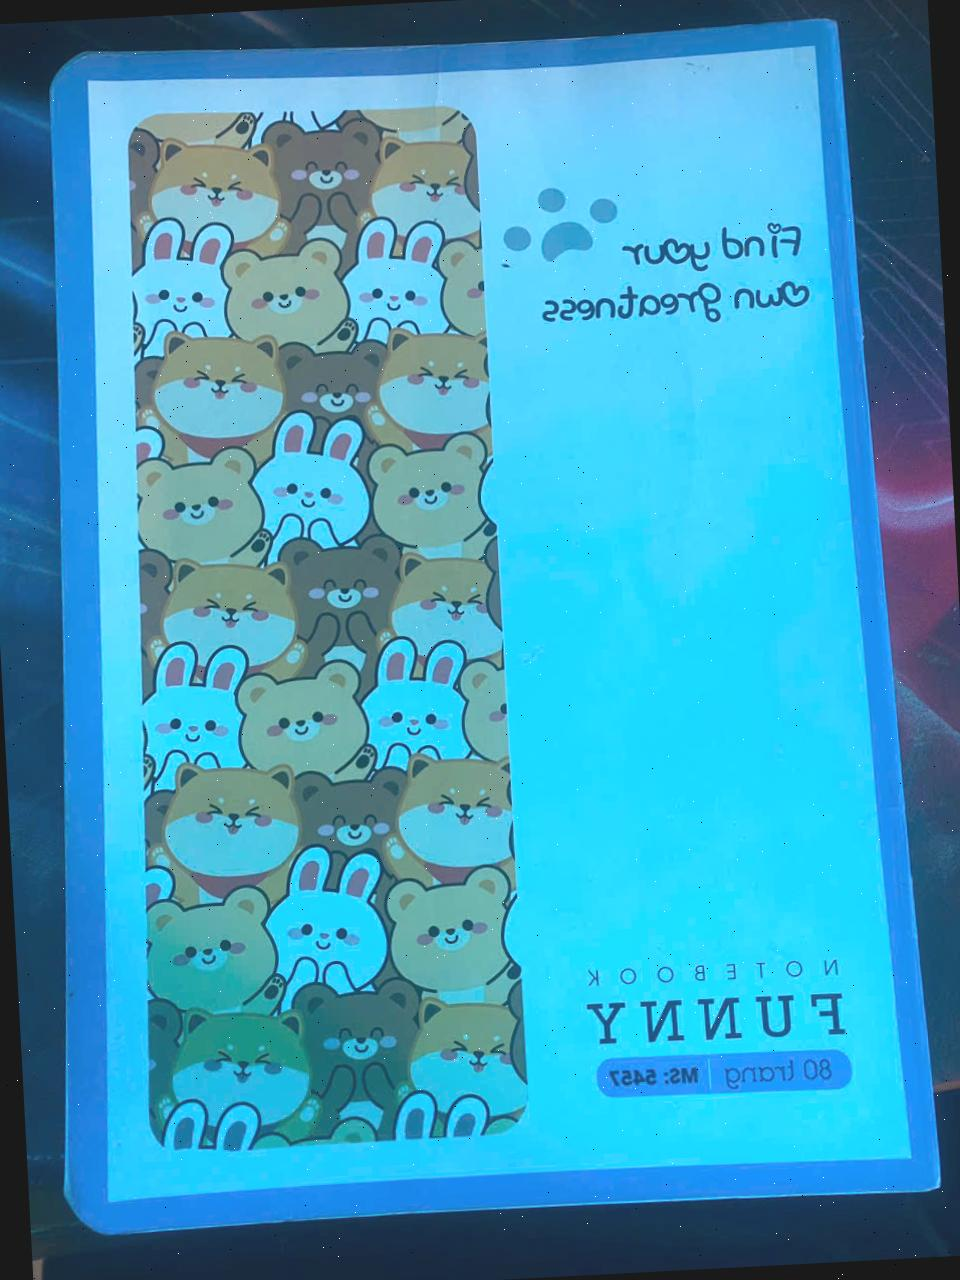quyenvo: (52, 21, 937, 1233)
